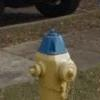Hydrant: (21, 23, 89, 100)
